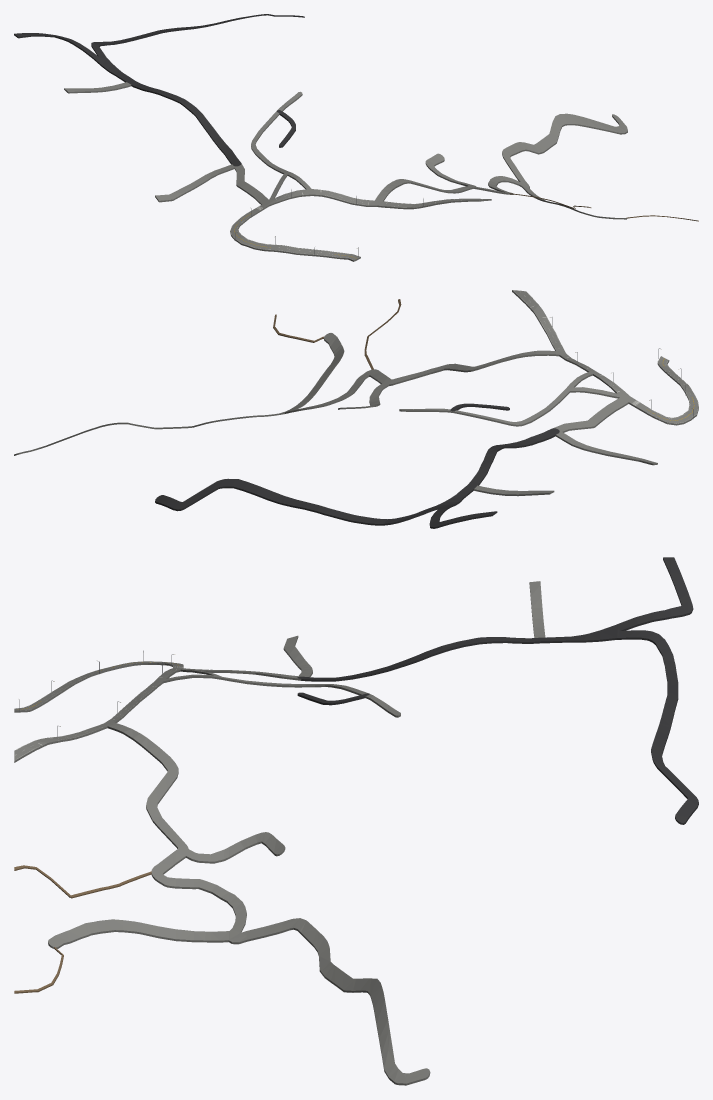
File: 16-54727-29736.4db97bbd.glb
3 views of the same model, one above another, from view 1: azimuth 30°, elevation 25°; view 2: azimuth 150°, elevation 25°; view 3: azimuth 270°, elevation 25° (orthographic). The views are drawn at different scales.
Size of the model in its own units: 447 by 122 by 388.
